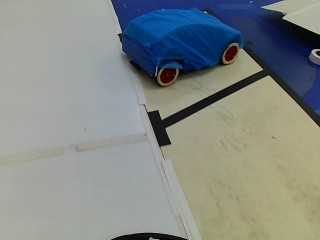car: (120, 8, 248, 84)
